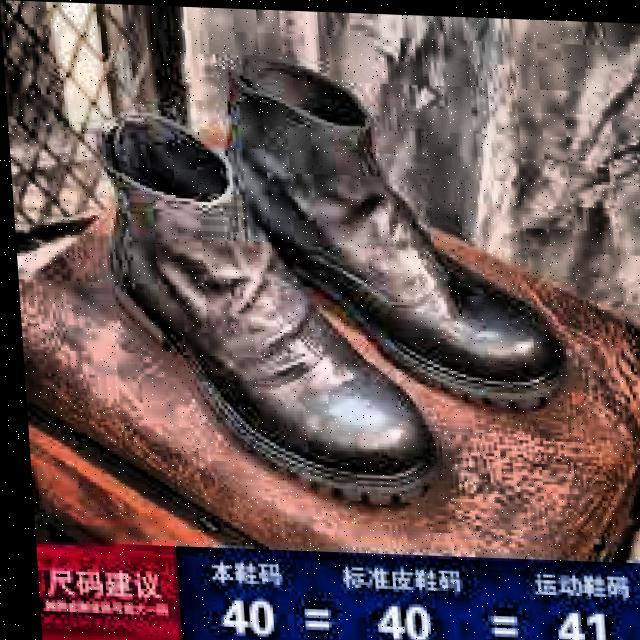shoes: (65, 33, 586, 517)
